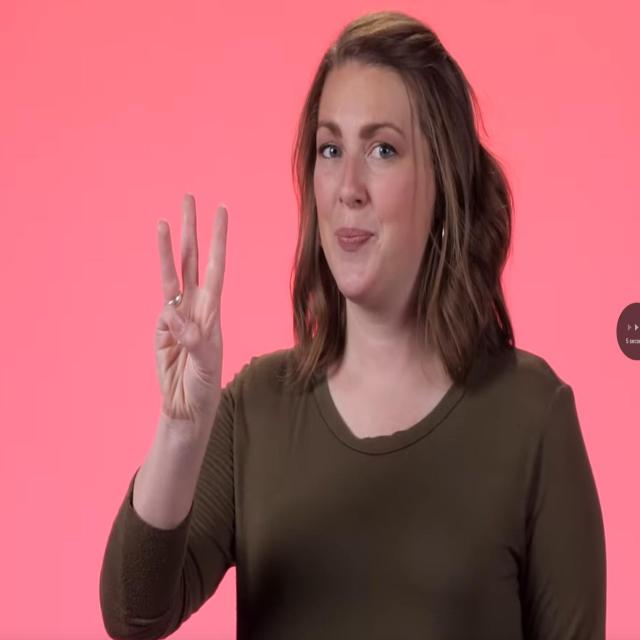W: (152, 189, 233, 420)
